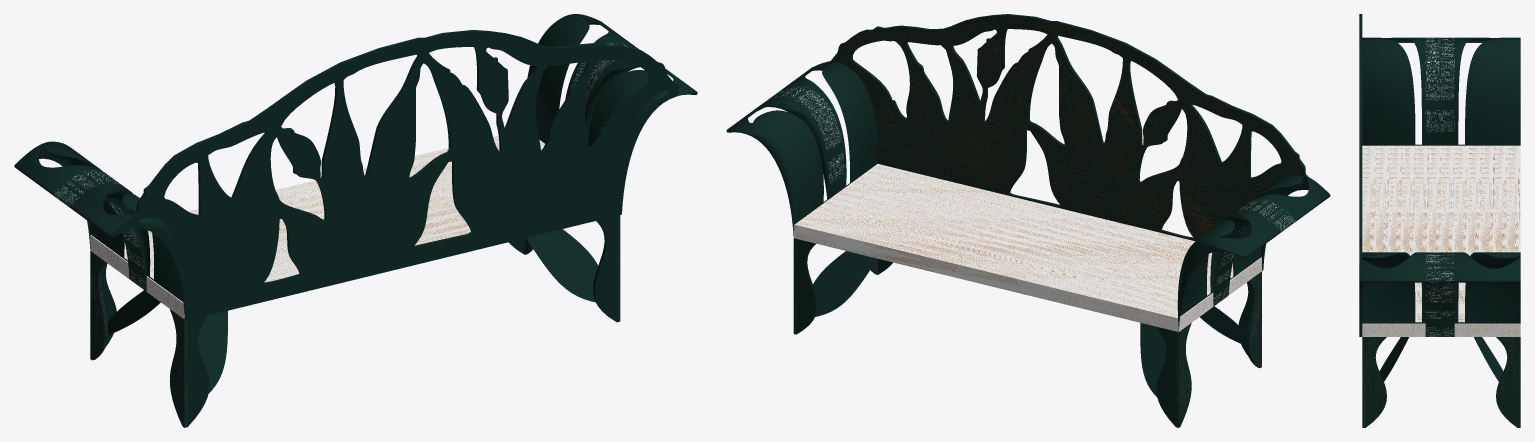
3 views of the same model, side by side, from view 1: azimuth 30°, elevation 25°; view 2: azimuth 150°, elevation 25°; view 3: azimuth 270°, elevation 25° (orthographic). The views are drawn at different scales.
Parts seen in each view (by area): view 1: mesh11_mesh11-geometry, mesh17_mesh17-geometry, mesh16_mesh16-geometry, mesh15_mesh15-geometry, mesh13_mesh13-geometry, mesh14_mesh14-geometry, mesh10_mesh10-geometry, mesh2_mesh2-geometry, mesh6_mesh6-geometry, mesh9_mesh9-geometry, mesh3_mesh3-geometry, mesh7_mesh7-geometry (+3 smaller); view 2: mesh11_mesh11-geometry, mesh17_mesh17-geometry, mesh13_mesh13-geometry, mesh14_mesh14-geometry, mesh15_mesh15-geometry, mesh16_mesh16-geometry, mesh5_mesh5-geometry, mesh6_mesh6-geometry, mesh2_mesh2-geometry, mesh1_mesh1-geometry, mesh7_mesh7-geometry, mesh3_mesh3-geometry (+2 smaller); view 3: mesh17_mesh17-geometry, mesh15_mesh15-geometry, mesh16_mesh16-geometry, mesh13_mesh13-geometry, mesh14_mesh14-geometry, mesh3_mesh3-geometry, mesh7_mesh7-geometry, mesh11_mesh11-geometry, mesh5_mesh5-geometry, mesh10_mesh10-geometry, mesh4_mesh4-geometry, mesh8_mesh8-geometry.
Boxes of the visible parts, bbox=[...] form: mesh11_mesh11-geometry: bbox=[112, 30, 679, 320]; mesh17_mesh17-geometry: bbox=[90, 135, 544, 318]; mesh16_mesh16-geometry: bbox=[62, 176, 185, 320]; mesh15_mesh15-geometry: bbox=[14, 141, 137, 285]; mesh13_mesh13-geometry: bbox=[527, 14, 638, 143]; mesh14_mesh14-geometry: bbox=[584, 60, 697, 147]; mesh10_mesh10-geometry: bbox=[526, 229, 598, 302]; mesh2_mesh2-geometry: bbox=[101, 216, 616, 346]; mesh6_mesh6-geometry: bbox=[187, 238, 524, 426]; mesh9_mesh9-geometry: bbox=[198, 310, 227, 393]; mesh3_mesh3-geometry: bbox=[92, 252, 107, 360]; mesh7_mesh7-geometry: bbox=[170, 238, 532, 425]; mesh11_mesh11-geometry: bbox=[826, 14, 1327, 267]; mesh17_mesh17-geometry: bbox=[793, 164, 1261, 331]; mesh13_mesh13-geometry: bbox=[726, 92, 836, 235]; mesh14_mesh14-geometry: bbox=[771, 61, 877, 193]; mesh15_mesh15-geometry: bbox=[1177, 204, 1288, 331]; mesh16_mesh16-geometry: bbox=[1221, 174, 1330, 300]; mesh5_mesh5-geometry: bbox=[813, 251, 877, 316]; mesh6_mesh6-geometry: bbox=[796, 239, 1251, 356]; mesh2_mesh2-geometry: bbox=[878, 259, 1175, 426]; mesh1_mesh1-geometry: bbox=[1140, 323, 1166, 397]; mesh7_mesh7-geometry: bbox=[1246, 273, 1260, 367]; mesh3_mesh3-geometry: bbox=[870, 259, 1191, 426]; mesh17_mesh17-geometry: bbox=[1362, 145, 1520, 336]; mesh15_mesh15-geometry: bbox=[1440, 37, 1520, 145]; mesh16_mesh16-geometry: bbox=[1362, 37, 1440, 145]; mesh13_mesh13-geometry: bbox=[1440, 252, 1520, 336]; mesh14_mesh14-geometry: bbox=[1360, 252, 1440, 336]; mesh3_mesh3-geometry: bbox=[1365, 337, 1386, 427]; mesh7_mesh7-geometry: bbox=[1496, 337, 1517, 427]; mesh11_mesh11-geometry: bbox=[1359, 14, 1362, 336]; mesh5_mesh5-geometry: bbox=[1474, 337, 1503, 381]; mesh10_mesh10-geometry: bbox=[1379, 337, 1408, 381]; mesh4_mesh4-geometry: bbox=[1362, 337, 1365, 427]; mesh8_mesh8-geometry: bbox=[1517, 337, 1520, 427].
Size of the model in its own units: 0.8532 by 0.4624 by 0.2412.
